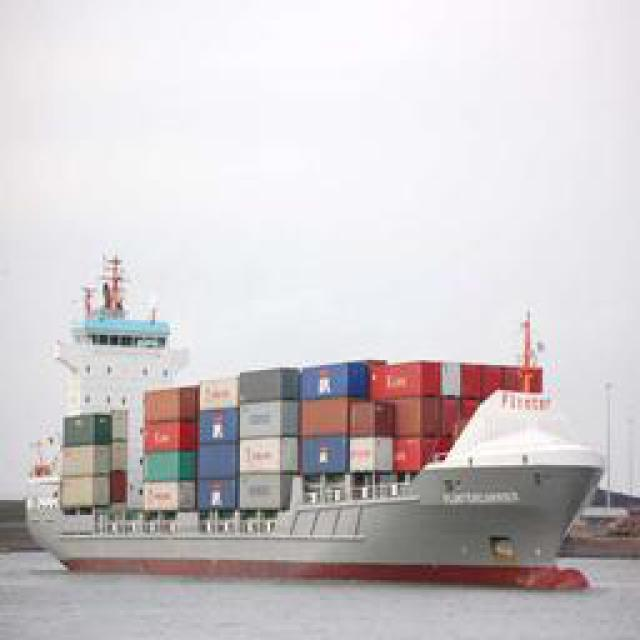Ship: (21, 235, 601, 578)
